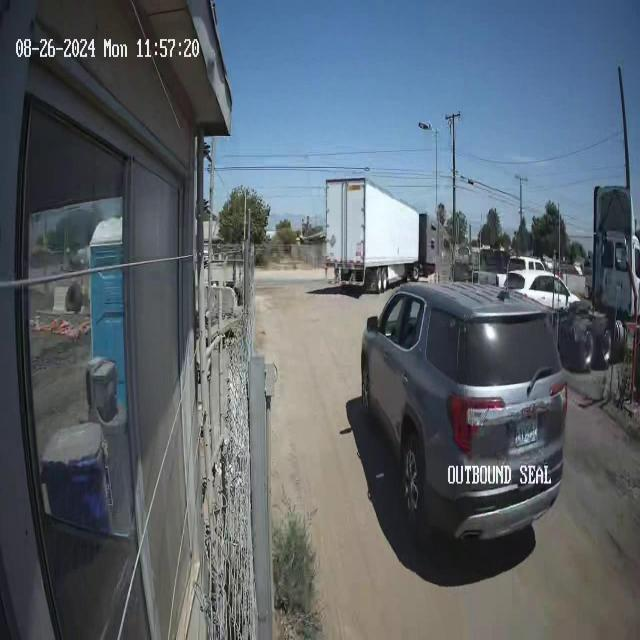TRUCK_OUT: (324, 175, 425, 294)
